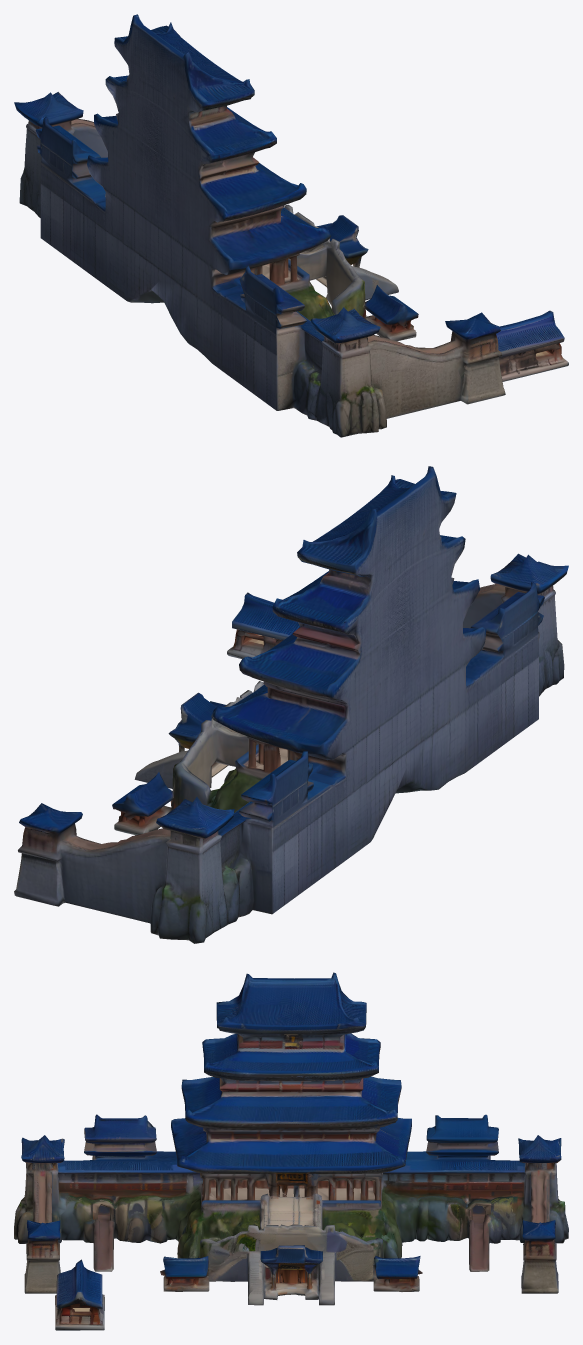
Rendered from tripo_convert_292cfac0-2dd8-4613-8907-6cda7c3e2044.fbx.
3 views of the same model, one above another, from view 1: azimuth 30°, elevation 25°; view 2: azimuth 150°, elevation 25°; view 3: azimuth 270°, elevation 25° (orthographic). The views are drawn at different scales.
Visible parts, largest first — view 1: tripo_node_292cfac0; view 2: tripo_node_292cfac0; view 3: tripo_node_292cfac0.
Part boxes in pixels (<box>): tripo_node_292cfac0: <box>14,14,568,437</box>; tripo_node_292cfac0: <box>14,466,568,943</box>; tripo_node_292cfac0: <box>14,972,568,1330</box>.
Size of the model in its own units: 0.4727 by 0.4939 by 0.9999.
Materials: 1 (1 with a texture image).
